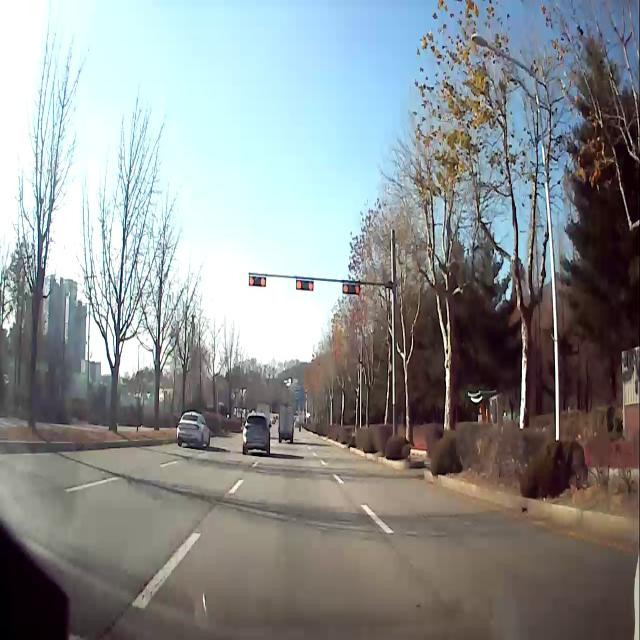Yellow Light: (248, 274, 255, 286), (259, 276, 266, 287), (295, 280, 302, 289), (354, 284, 360, 294), (343, 285, 349, 293)
